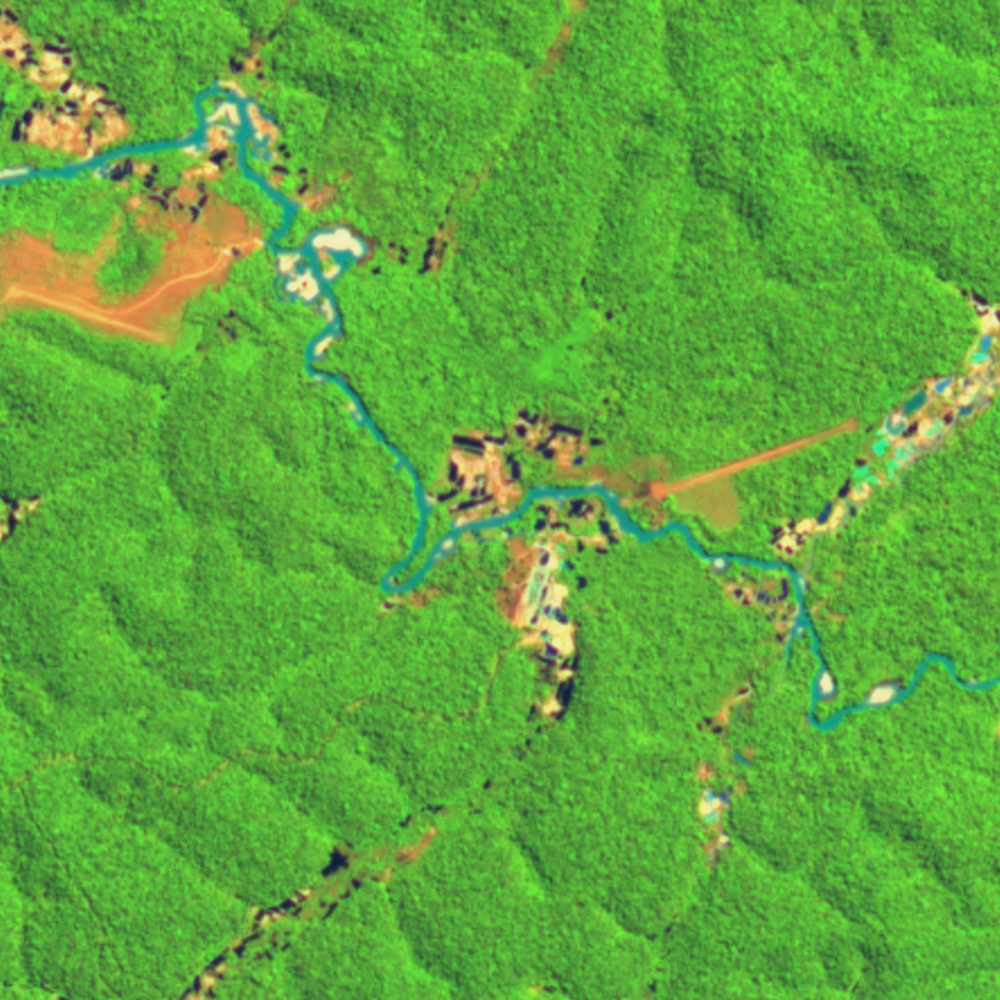illegal: (424, 407, 629, 764), (768, 284, 1000, 560), (173, 798, 454, 1000), (93, 75, 356, 261), (1, 1, 134, 162), (684, 664, 766, 880), (366, 155, 499, 284), (696, 546, 850, 650), (267, 224, 373, 364), (209, 1, 300, 96), (183, 300, 253, 375), (374, 571, 450, 612), (644, 910, 678, 1000), (1, 487, 46, 548), (468, 776, 522, 820), (530, 969, 572, 998)
